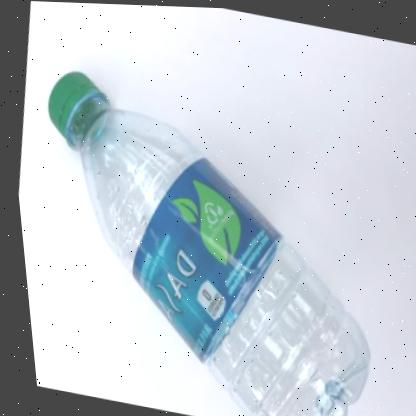Plastic: (46, 72, 363, 416)
